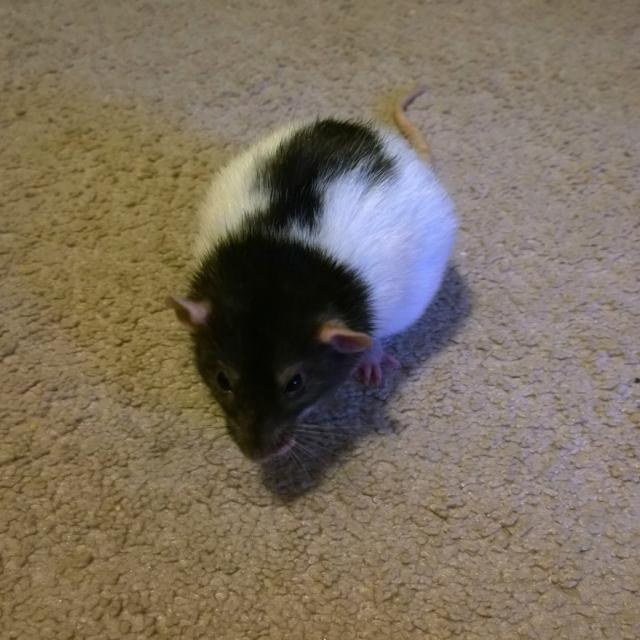rat: (160, 84, 464, 470)
